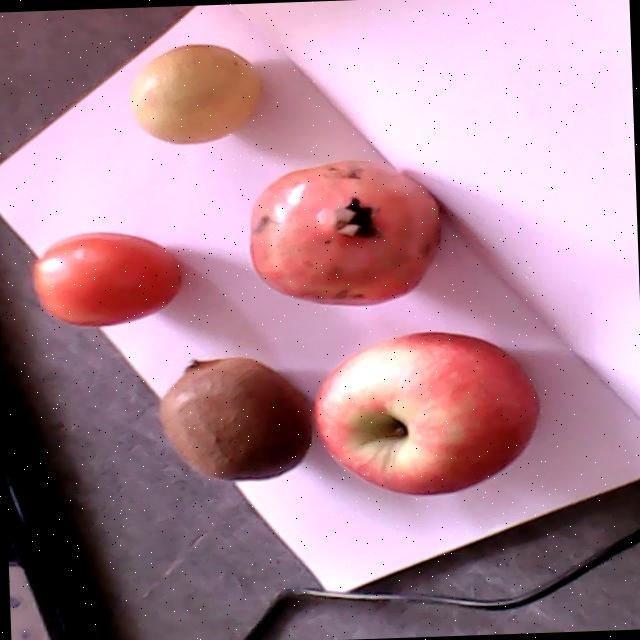apple: (312, 330, 540, 494)
kiwi: (160, 355, 314, 479)
lemon: (133, 43, 263, 143)
pomegranate: (250, 159, 440, 304)
tomato: (32, 231, 186, 326)
